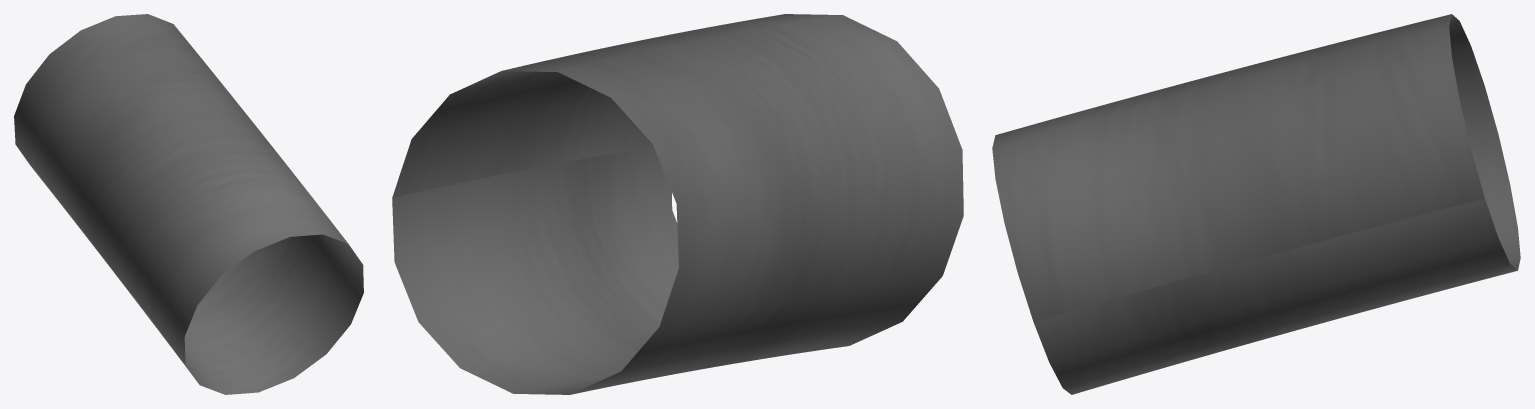
The model's file is mastarmcurve_10x2_c3.obj.
3 views of the same model, side by side, from view 1: azimuth 30°, elevation 25°; view 2: azimuth 150°, elevation 25°; view 3: azimuth 270°, elevation 25° (orthographic). The views are drawn at different scales.
Parts seen in each view (by area): view 1: mastarm_10x2_c3; view 2: mastarm_10x2_c3; view 3: mastarm_10x2_c3.
Part boxes in pixels (bbox=[...]): mastarm_10x2_c3: bbox=[14, 14, 363, 394]; mastarm_10x2_c3: bbox=[392, 14, 963, 394]; mastarm_10x2_c3: bbox=[992, 14, 1520, 394].
Size of the model in its own units: 0.6 by 0.8686 by 1.17.
